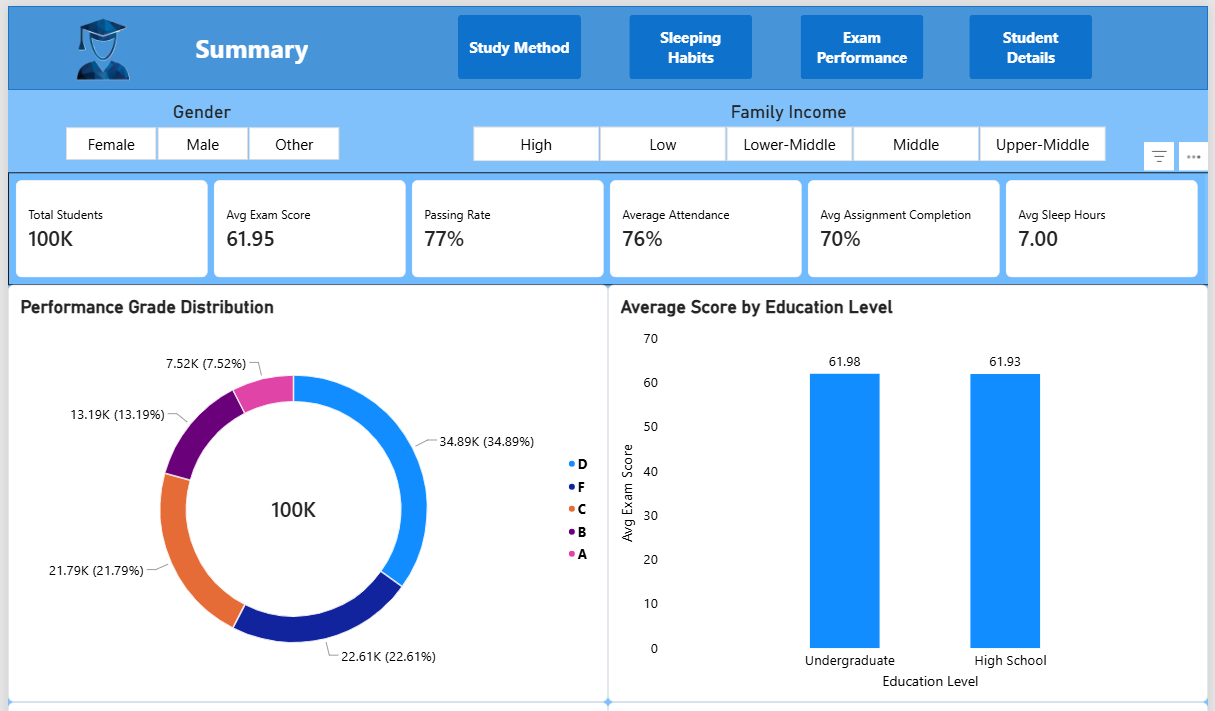

The dashboard page shown, as its layout file describes it:
{"tool":"powerbi","page":{"name":"Summary","canvas":[1600,1500],"ordinal":0},"visuals":[{"type":"shape","box":[0,0,1600,111.7],"z":0},{"type":"cardVisual","fields":{"Data":["DAX Measures.Total Students","DAX Measures.Avg Exam Score","DAX Measures.Passing Rate","DAX Measures.Average Attendance","DAX Measures.Avg Assignment Completion","DAX Measures.Avg Sleep Hours"]},"box":[0,222,1600.9,150.3],"z":1000},{"type":"donutChart","title":"Performance Grade Distribution","fields":{"Category":["Student_Data.performance_grade"],"Y":["CountNonNull(Student_Data.student_id)"]},"box":[0,372,800,556],"z":2000},{"type":"clusteredColumnChart","title":"Average Score by Education Level","fields":{"Category":["Student_Data.education_level"],"Y":["DAX Measures.Avg Exam Score"]},"box":[800,372,800,556],"z":3000},{"type":"clusteredBarChart","title":"Average Score by School Type","fields":{"Category":["Student_Data.school_type"],"Y":["DAX Measures.Avg Exam Score"]},"box":[0,928,800,546],"z":4000},{"type":"hundredPercentStackedColumnChart","title":"Pass vs Fail","fields":{"Category":["Student_Data.urban_rural"],"Series":["Student_Data.pass_status"],"Y":["CountNonNull(Student_Data.student_id)"]},"box":[800,928,800,546],"z":5000},{"type":"slicer","title":"Gender","fields":{"Values":["Student_Data.gender"]},"box":[56.7,126.7,404,80],"z":6000},{"type":"slicer","title":"Family Income","fields":{"Values":["Student_Data.family_income"]},"box":[600,126.7,882,82],"z":7000},{"type":"actionButton","box":[828,12,164,86],"z":8000},{"type":"actionButton","box":[1282,12,164,86],"z":9000},{"type":"actionButton","box":[1056,12,164,86],"z":10000},{"type":"actionButton","box":[600,12,164,86],"z":11000},{"type":"image","box":[56.7,3.3,140,108.3],"z":12000}]}

Visuals, with their boxes on the page's 1600x1500 design canvas (x1, y1, x2, y2). These are canvas units, not pixel positions in the 1215x711 screenshot, which may show the page scaled, cropped or inside an application window:
shape: [0,0,1600,112]
cardVisual - DAX Measures.Total Students x DAX Measures.Avg Exam Score: [0,222,1601,372]
"Performance Grade Distribution" donutChart: [0,372,800,928]
"Average Score by Education Level" clusteredColumnChart: [800,372,1600,928]
"Average Score by School Type" clusteredBarChart: [0,928,800,1474]
"Pass vs Fail" hundredPercentStackedColumnChart: [800,928,1600,1474]
"Gender" slicer: [57,127,461,207]
"Family Income" slicer: [600,127,1482,209]
actionButton: [828,12,992,98]
actionButton: [1282,12,1446,98]
actionButton: [1056,12,1220,98]
actionButton: [600,12,764,98]
image: [57,3,197,112]
